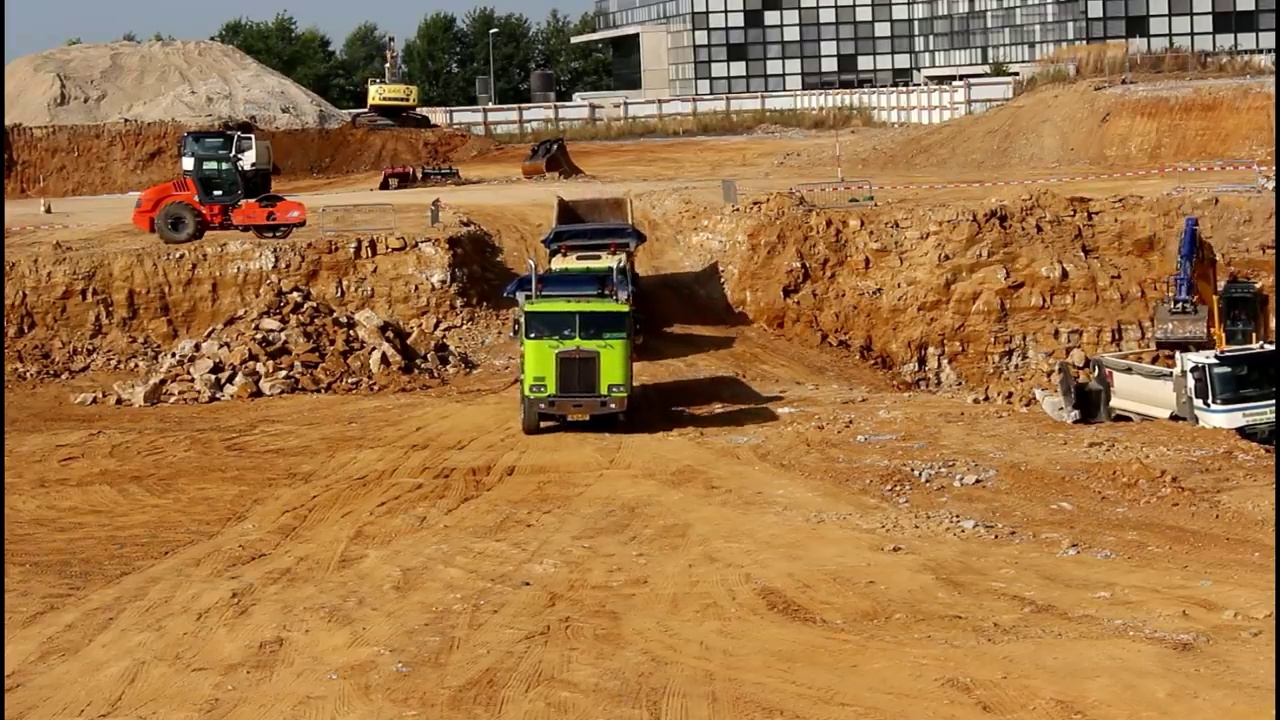compactor: (128, 144, 316, 247)
excavator: (1147, 210, 1280, 399), (349, 33, 440, 136)
truck: (1090, 331, 1280, 476), (508, 268, 646, 441), (540, 186, 646, 347), (171, 120, 281, 205)
